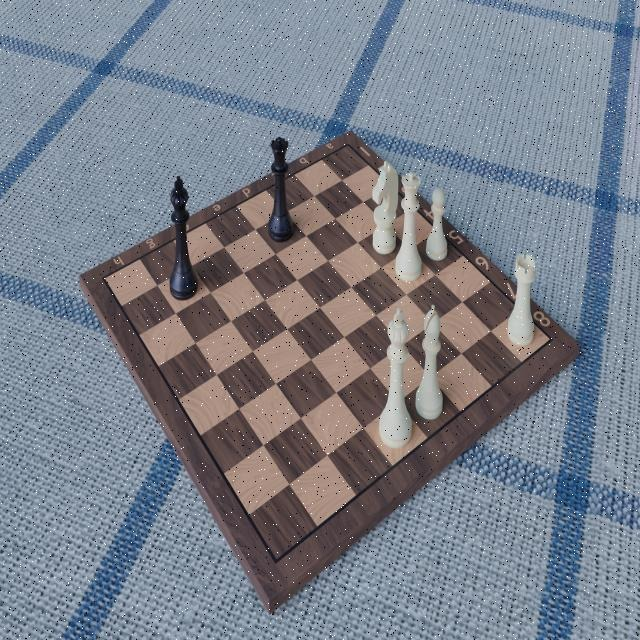black-king: (169, 173, 199, 304)
black-queen: (267, 136, 297, 244)
white-bishop: (411, 301, 444, 423)
white-king: (378, 304, 416, 454)
white-knight: (370, 161, 401, 255)
white-pawn: (423, 183, 449, 264)
white-queen: (393, 169, 423, 283)
white-rook: (505, 246, 536, 348)
